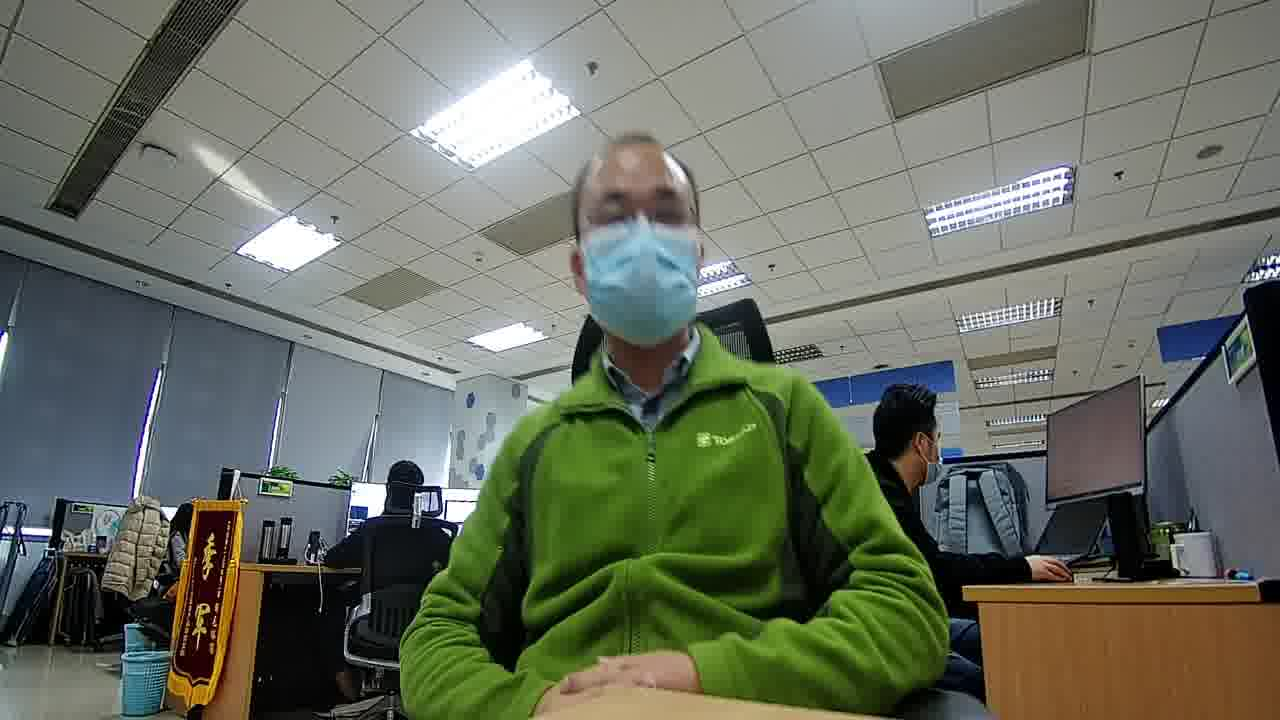face: (579, 152, 700, 345)
mask: (576, 216, 701, 348)
person: (509, 116, 811, 450), (848, 376, 968, 542), (359, 452, 443, 532), (164, 494, 193, 545)
